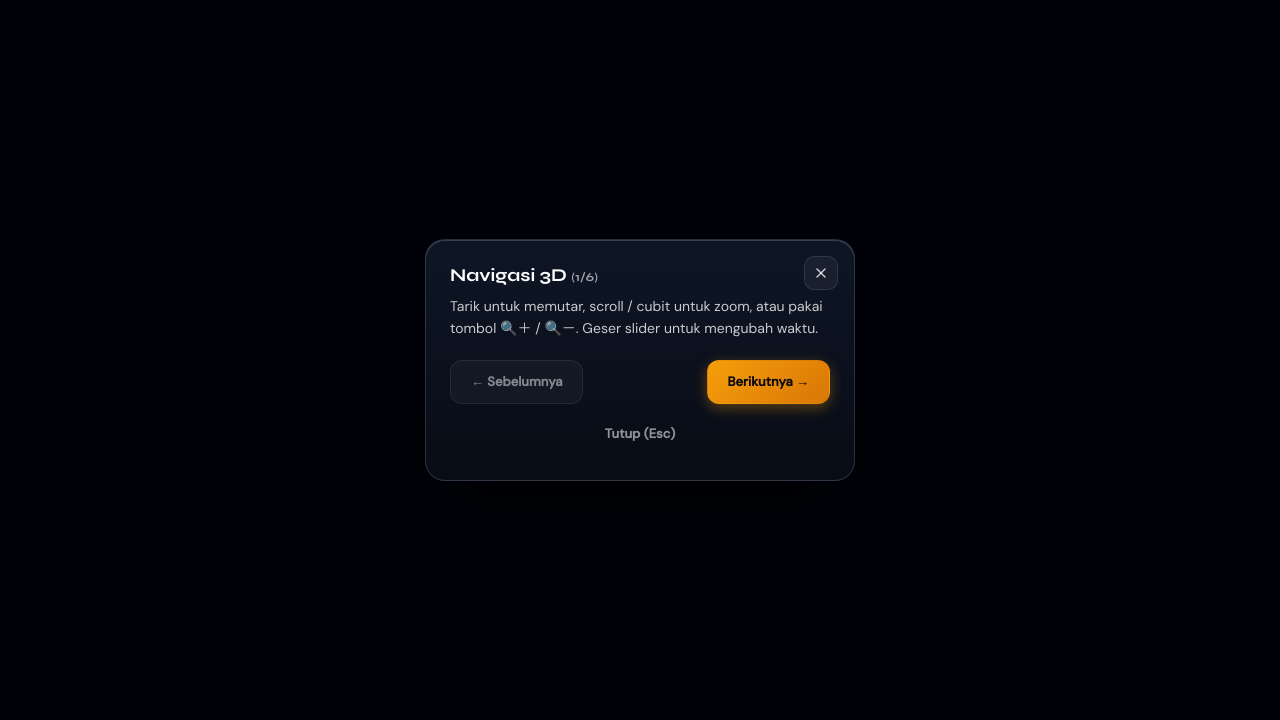
Scenario: components/OverlayHelp › navigasi ke langkah berikutnya & kembali
The width and height of the screenshot is (1280, 720).
Click the button "Berikutnya →": (768, 382) [706,360,830,404]
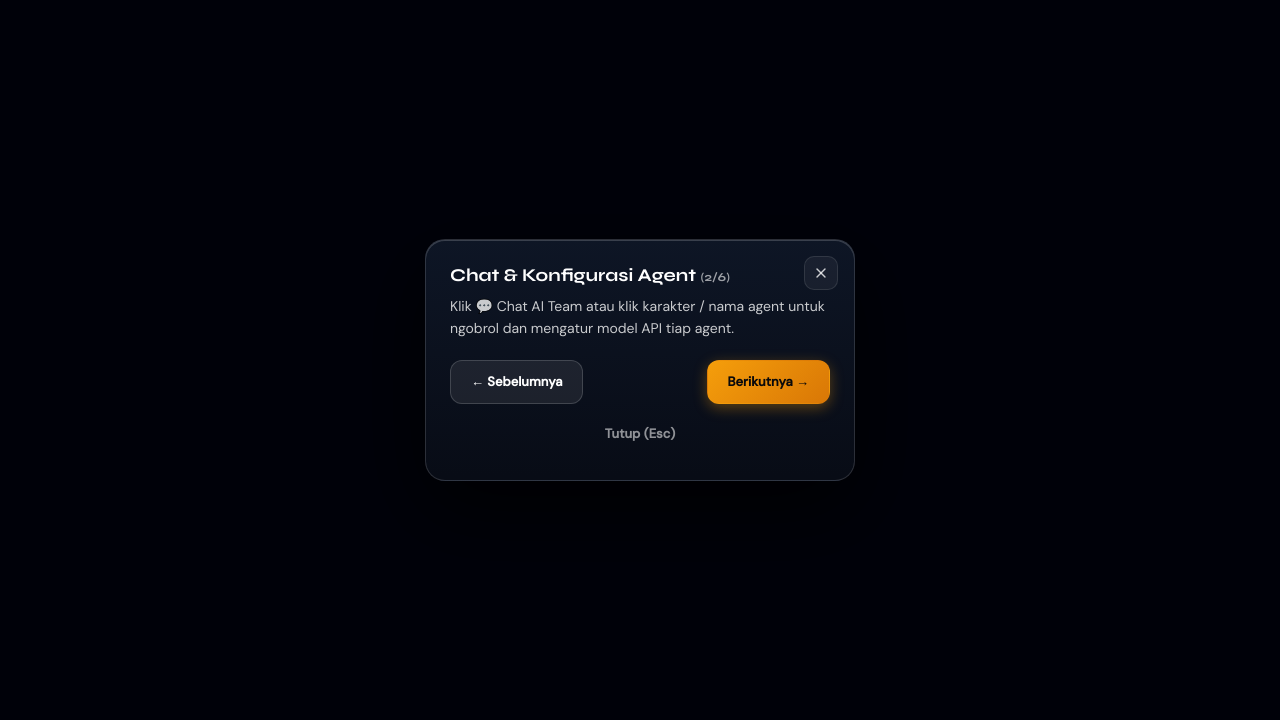
expect the heading shows "(2/6)": met, box [450,264,730,286]
expect the button "← Sebelumnya" is enabled: met
Click the button "← Sebelumnya": (517, 382) [450,360,584,404]
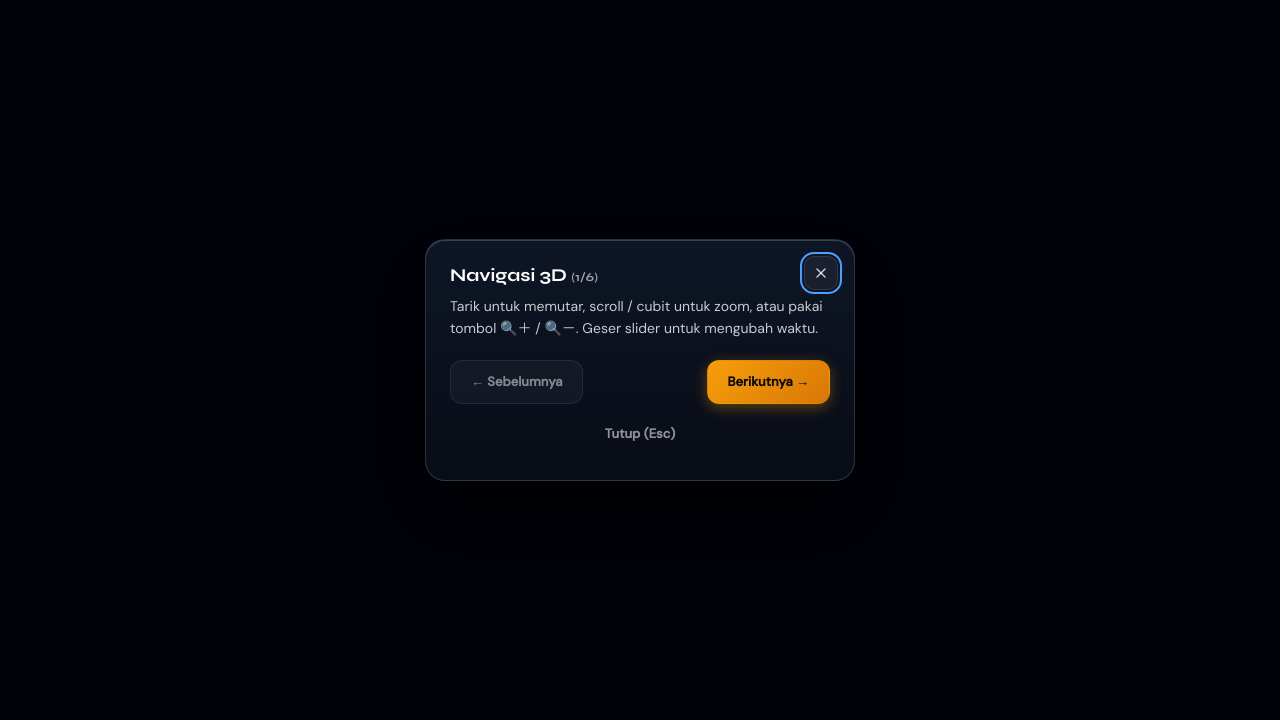
expect the heading "Navigasi 3D (1/6)" is shown: met, box [450,264,598,286]
